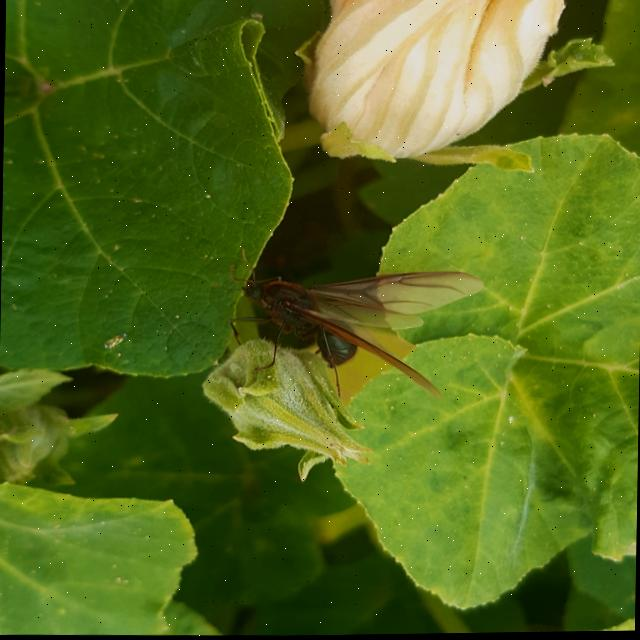Alive-Male-Alate: (209, 245, 485, 404)
